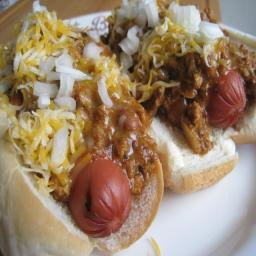hotdog: (112, 0, 256, 190)
